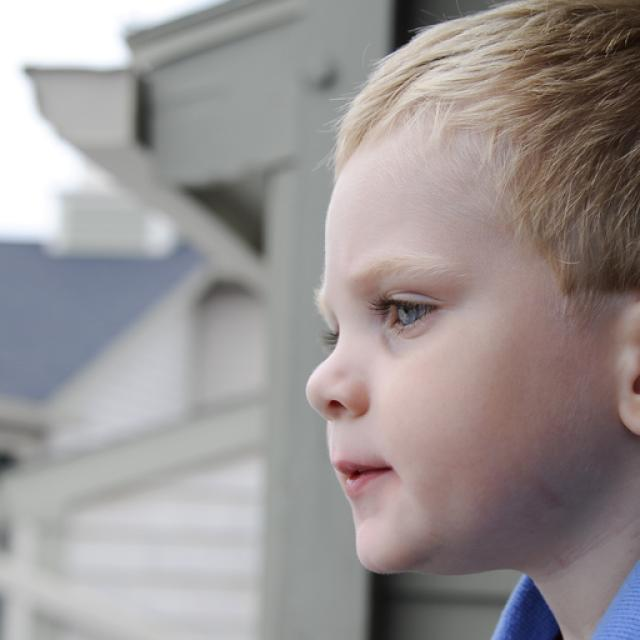fear: (305, 146, 584, 570)
